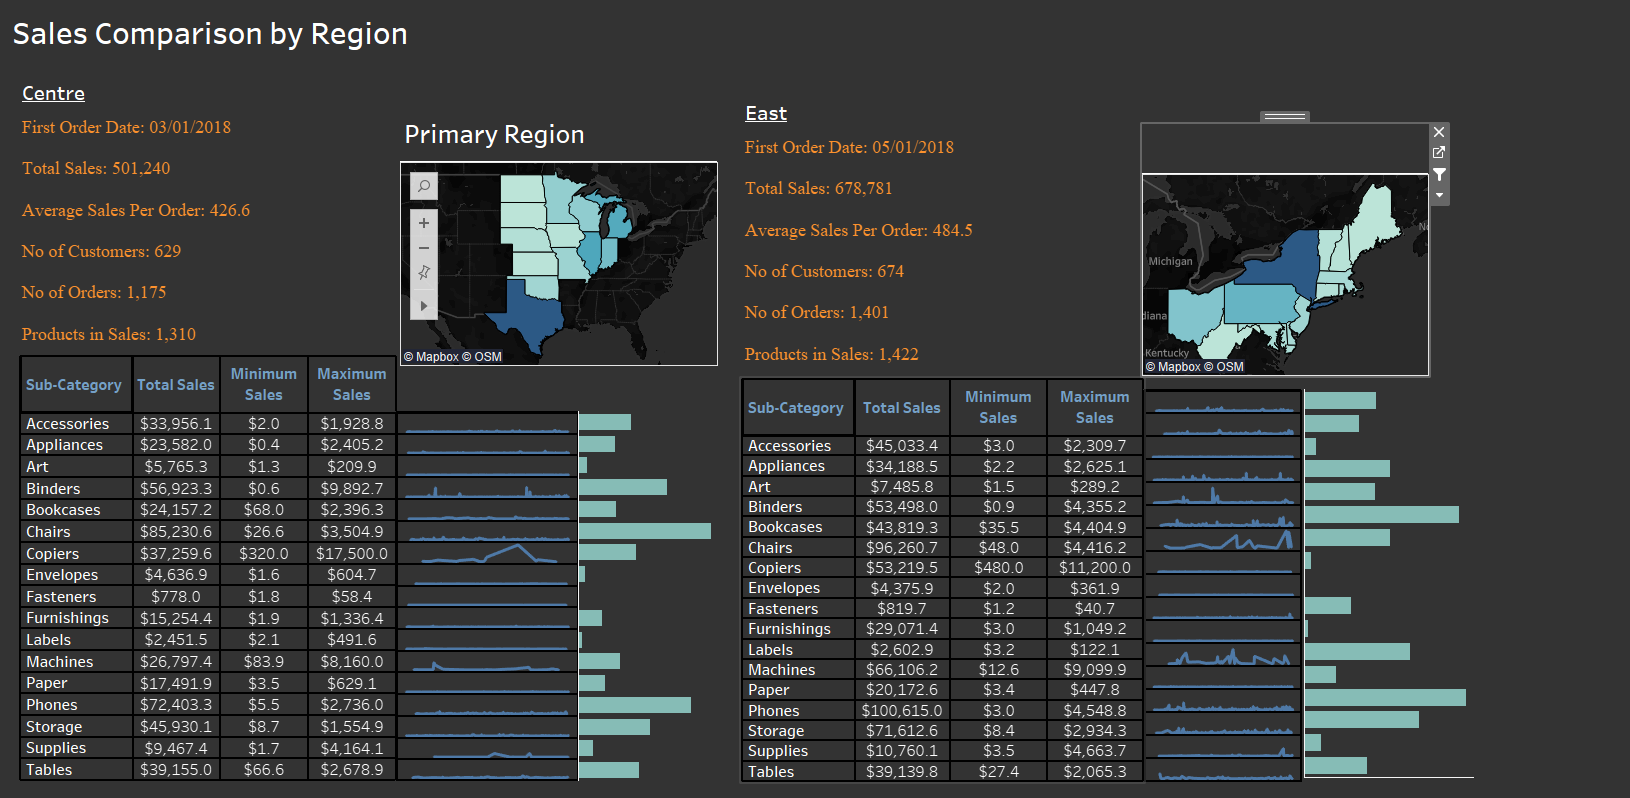

The page's visual inventory and layout, read from the dashboard file:
{"tool":"tableau","page":{"name":"Dashboard 2","canvas":[1000,1000],"units":"permille","ordinal":0},"visuals":[{"type":"title","box":[4.8,10,990.3,61.2]},{"type":"dashboard-object","box":[0,71.2,14.5,30]},{"type":"worksheet","title":"card1","mark":"Automatic","box":[12.7,93.6,187.1,384.5]},{"type":"worksheet","title":"card2","mark":"Automatic","box":[449,118.6,172,362.1]},{"type":"worksheet","title":"Map1","mark":"Multipolygon","box":[243.2,141.1,191.9,317.1]},{"type":"worksheet","title":"Map2","mark":"Multipolygon","box":[691.3,156.1,173,314.6]},{"type":"worksheet","title":"table1","mark":"Automatic","rows":["Sub-Category"],"box":[13.3,444.4,228.1,531.8]},{"type":"worksheet","title":"line chart 2","mark":"Line","rows":["Sub-Category","Sales"],"cols":["Order Date"],"box":[691.9,468.2,96.1,509.4]},{"type":"worksheet","title":"table2","mark":"Automatic","rows":["Sub-Category"],"box":[449,473.2,243.2,504.4]},{"type":"worksheet","title":"bar chart 2","mark":"Automatic","rows":["Sub-Category"],"cols":["Sales"],"box":[788.6,486.9,102.7,485.6]},{"type":"worksheet","title":"line chart1","mark":"Line","rows":["Sub-Category","Sales"],"cols":["Order Date"],"box":[240.2,514.4,111.7,464.4]},{"type":"worksheet","title":"bar chart 1","mark":"Automatic","rows":["Sub-Category"],"cols":["Sales"],"box":[350.6,514.4,84.5,461.9]}]}

Visuals, with their boxes on the dashboard's canvas, which has no fixed pixel size, in thousandths of its width and height (x1, y1, x2, y2). These are canvas units, not pixel positions in the 1630x798 screenshot, which may show the page scaled, cropped or inside an application window:
title: 5:10:995:71
dashboard-object: 0:71:14:101
"card1" worksheet: 13:94:200:478
"card2" worksheet: 449:119:621:481
"Map1" worksheet (Multipolygon marks): 243:141:435:458
"Map2" worksheet (Multipolygon marks): 691:156:864:471
"table1" worksheet: 13:444:241:976
"line chart 2" worksheet (Line marks): 692:468:788:978
"table2" worksheet: 449:473:692:978
"bar chart 2" worksheet: 789:487:891:972
"line chart1" worksheet (Line marks): 240:514:352:979
"bar chart 1" worksheet: 351:514:435:976
